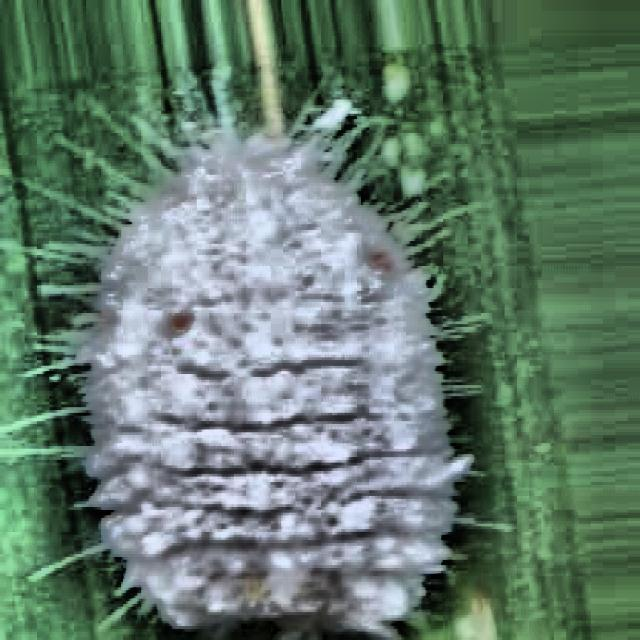Mealy-bug: (36, 65, 515, 640)
